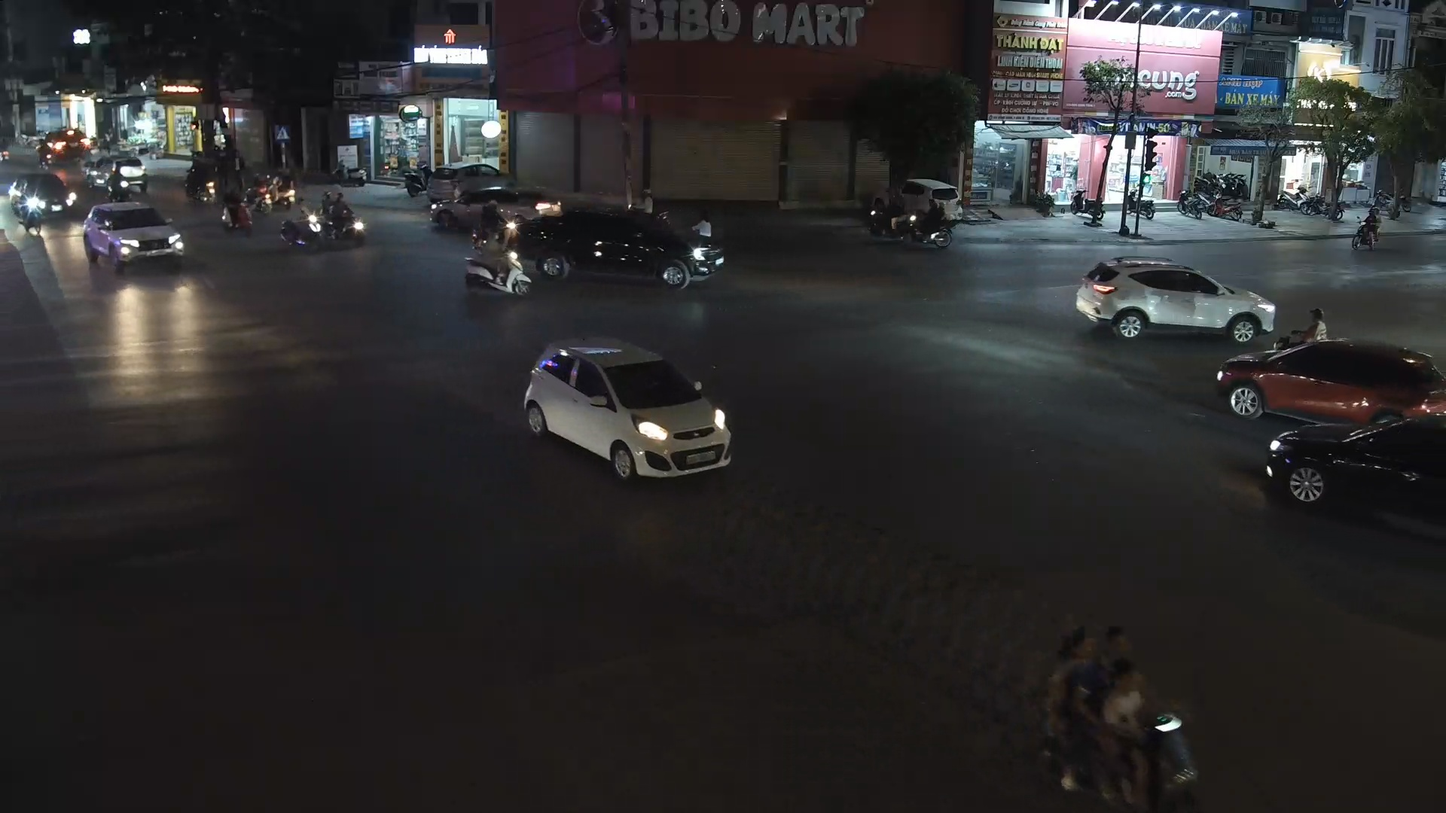car: (523, 339, 735, 479), (1215, 334, 1445, 423), (1263, 410, 1445, 518), (510, 199, 726, 287), (1075, 256, 1277, 343), (82, 198, 187, 274), (8, 165, 79, 229)
motorbike: (1037, 617, 1203, 812), (460, 230, 533, 298)
